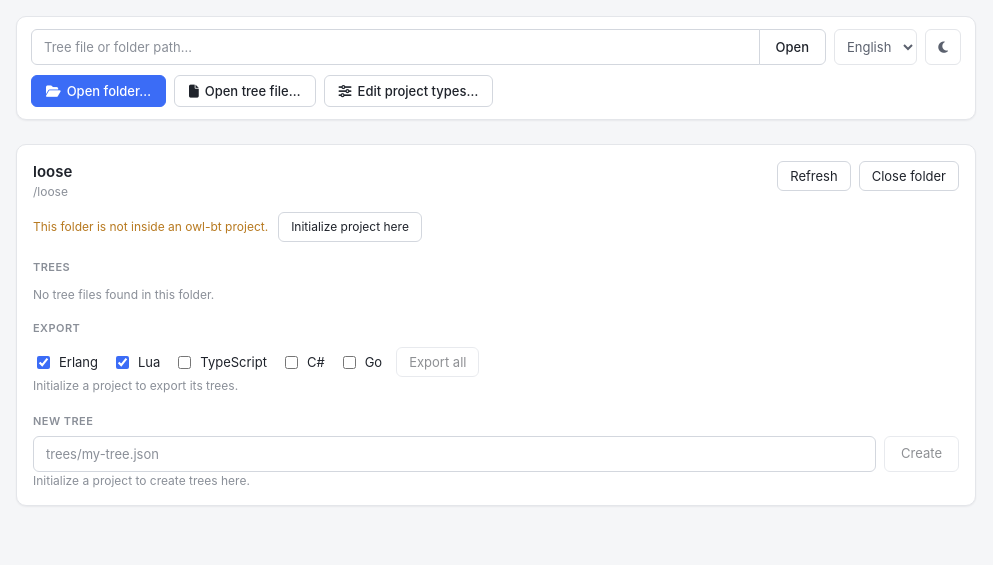
Test: Home › workspace panel › shows the server error when initializing fails
Click the button "Initialize project here". click: (350, 227)
box: [278,212,422,242]
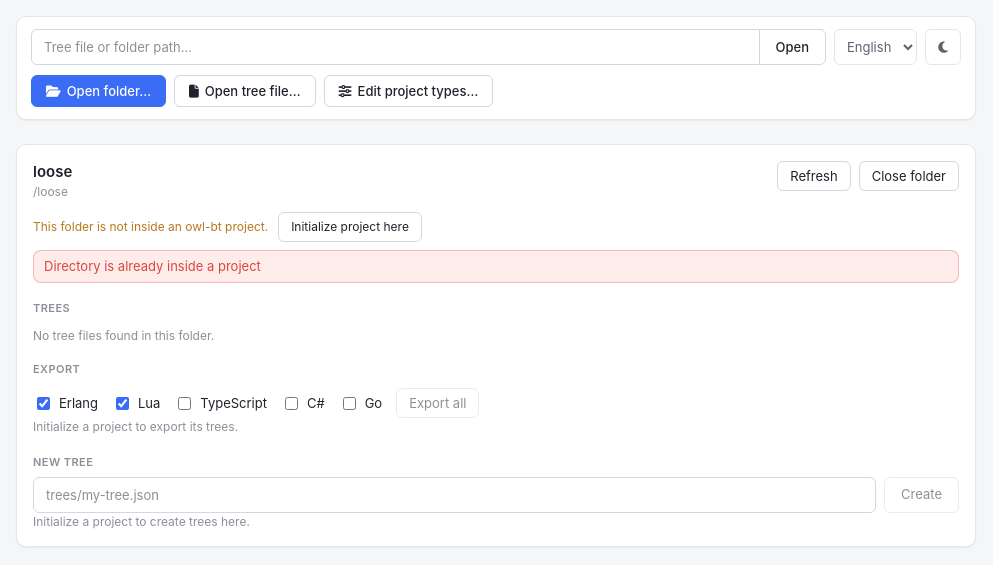
Result: the text "Directory is already inside a project" is shown at [33,250,959,283]
